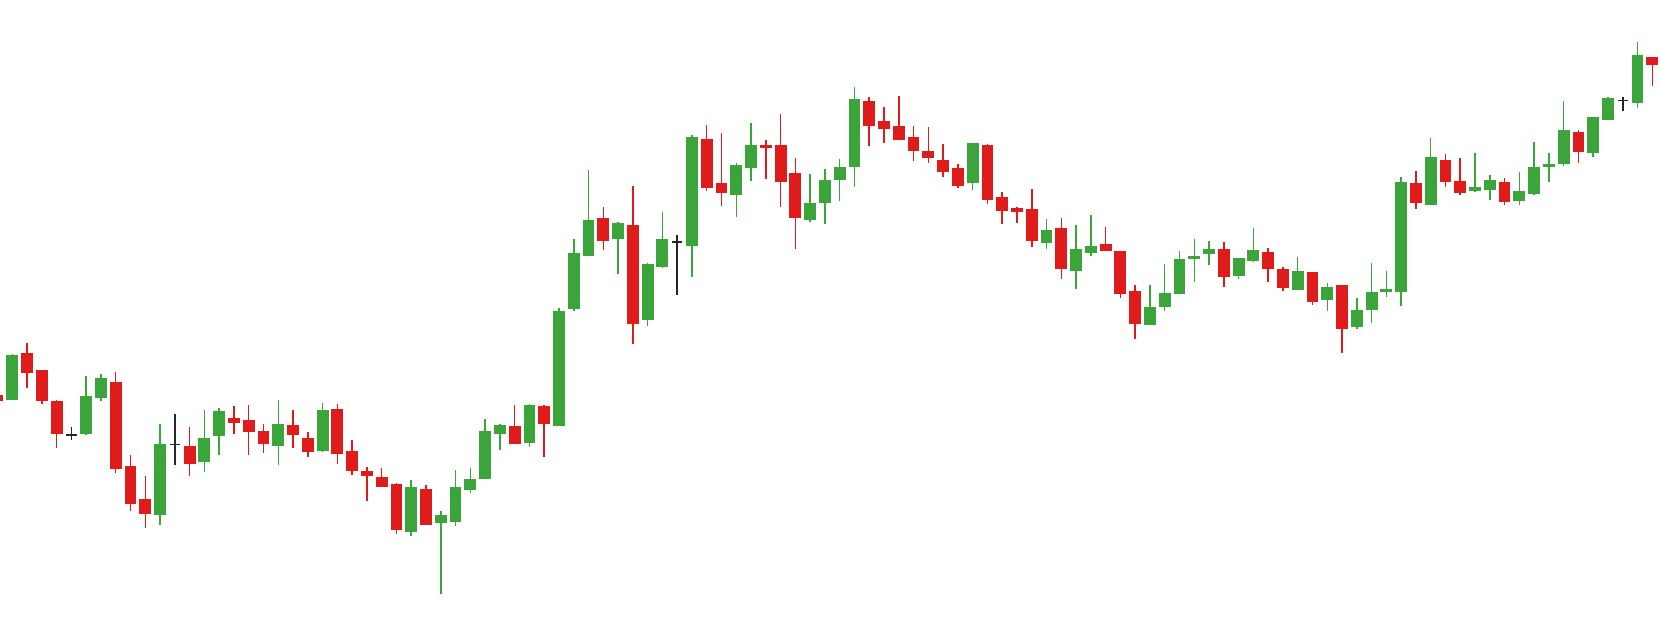sell: (772, 88, 878, 183)
